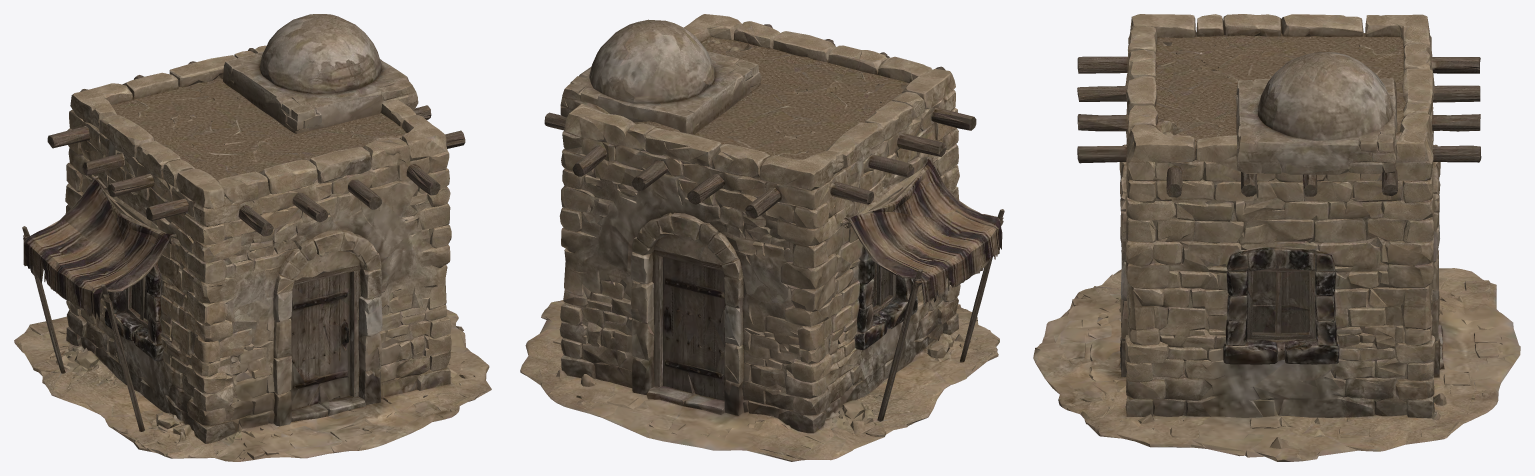
The model's file is jedhahouse.glb.
3 renders of one model, left to right at view 1: azimuth 30°, elevation 25°; view 2: azimuth 150°, elevation 25°; view 3: azimuth 270°, elevation 25°, orthographic. The views are drawn at different scales.
Parts seen in each view (by area): view 1: jedhahouse-centred; view 2: jedhahouse-centred; view 3: jedhahouse-centred.
Boxes of the visible parts, bbox=[...] form: jedhahouse-centred: bbox=[14, 14, 491, 461]; jedhahouse-centred: bbox=[520, 14, 1004, 461]; jedhahouse-centred: bbox=[1033, 14, 1520, 461].
Bounding box in the file's own units: 12.09 × 9 × 11.62.
1 material, 1 textured.
